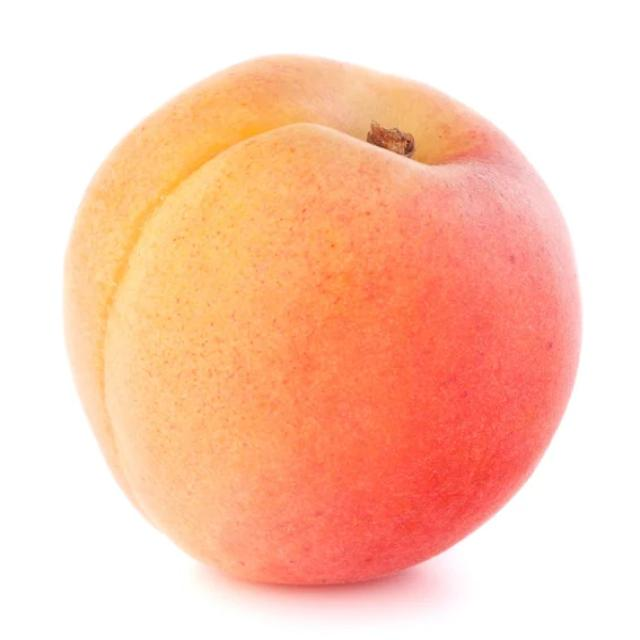kayisi: (57, 38, 592, 584)
